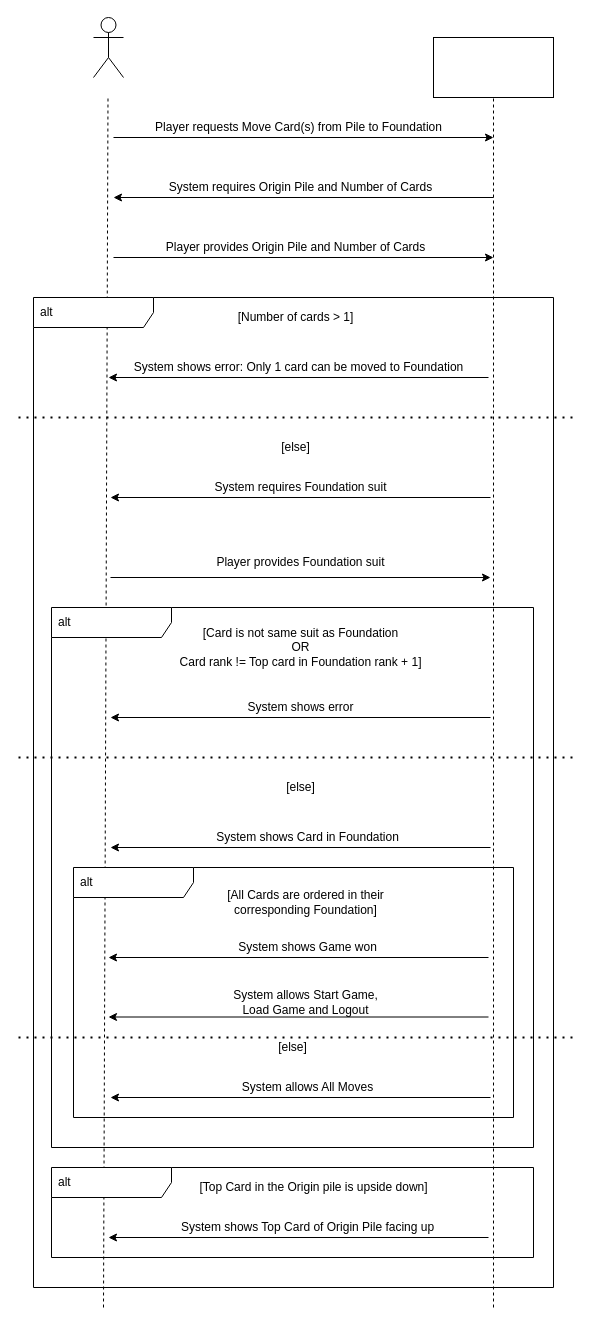
Image size: 597x1326. Some labels were removed from this diagram. The shapes that lost their labels are listed below. From the top down, each one's centre as x and y in pixels, then its label:
At pixel 108 47: "Player".
At pixel 493 67: "System".
